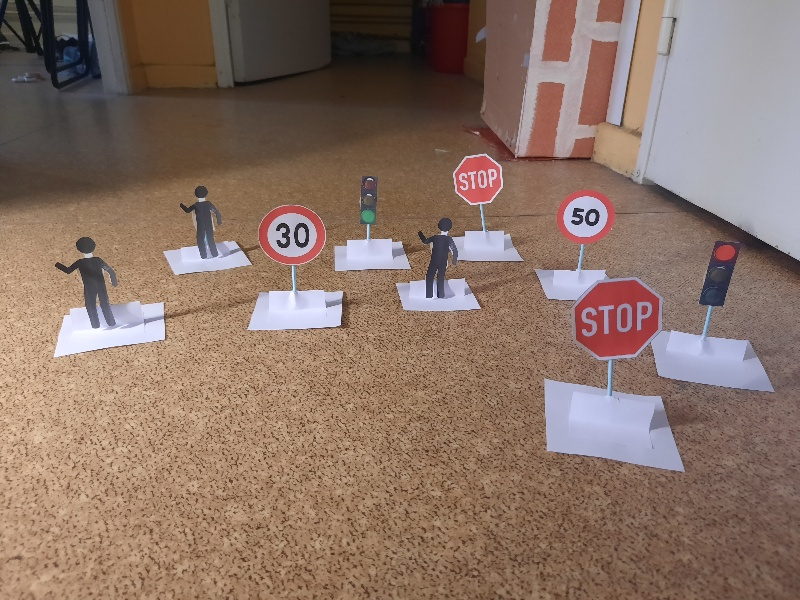Green: (360, 176, 378, 226)
Limit 30: (259, 206, 323, 262)
Limit 50: (555, 190, 613, 241)
Person: (57, 241, 121, 326), (416, 216, 457, 296), (179, 188, 225, 254)
Red: (702, 242, 737, 304)
Stop: (575, 279, 662, 357), (452, 155, 502, 204)
